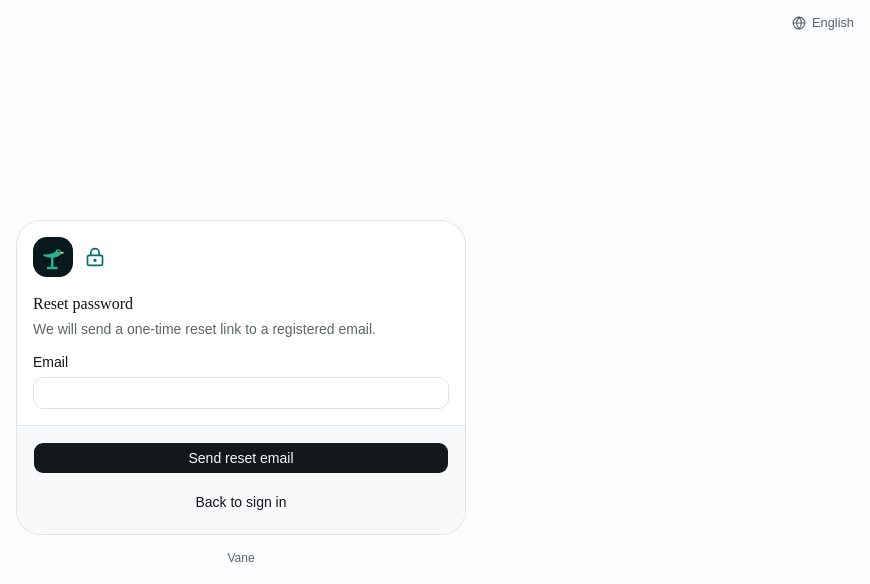
Test case: AccountSecurity › keeps password reset request enumeration-safe
Type "person@example.com" into the field labelled "Email" at {"x": 241, "y": 392}, box x1=33 y1=376 x2=449 y2=408
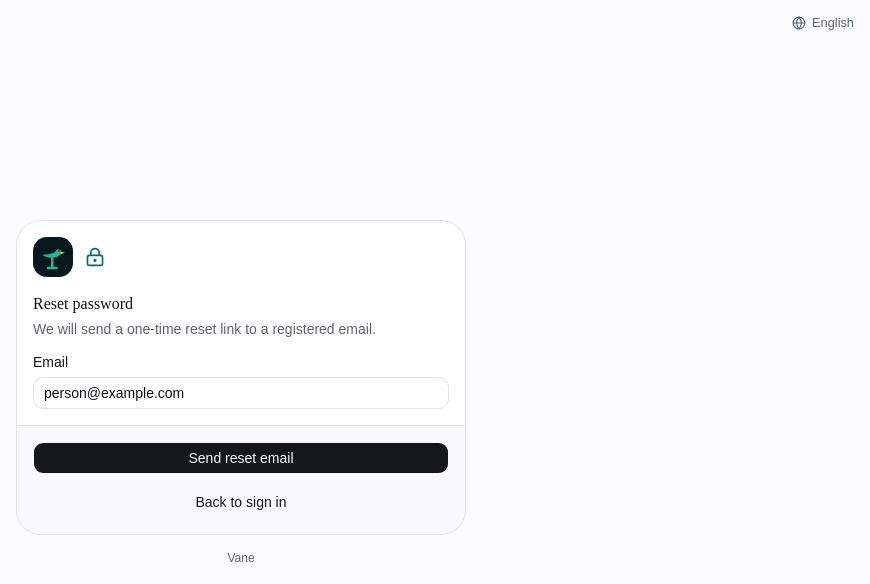
Click the button "Send reset email" at {"x": 241, "y": 458}, box x1=33 y1=442 x2=449 y2=474
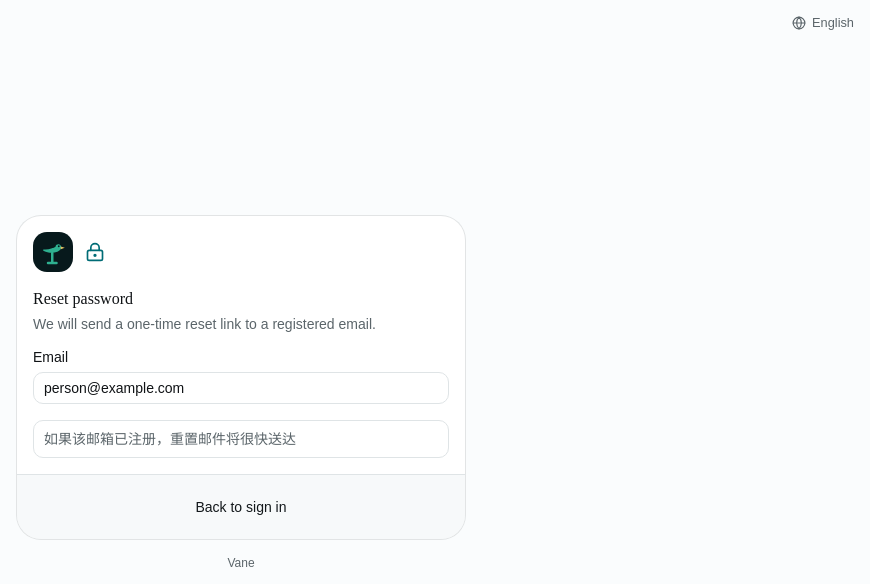
Result: the text "如果该邮箱已注册，重置邮件将很快送达" is shown at x1=44 y1=430 x2=296 y2=446
